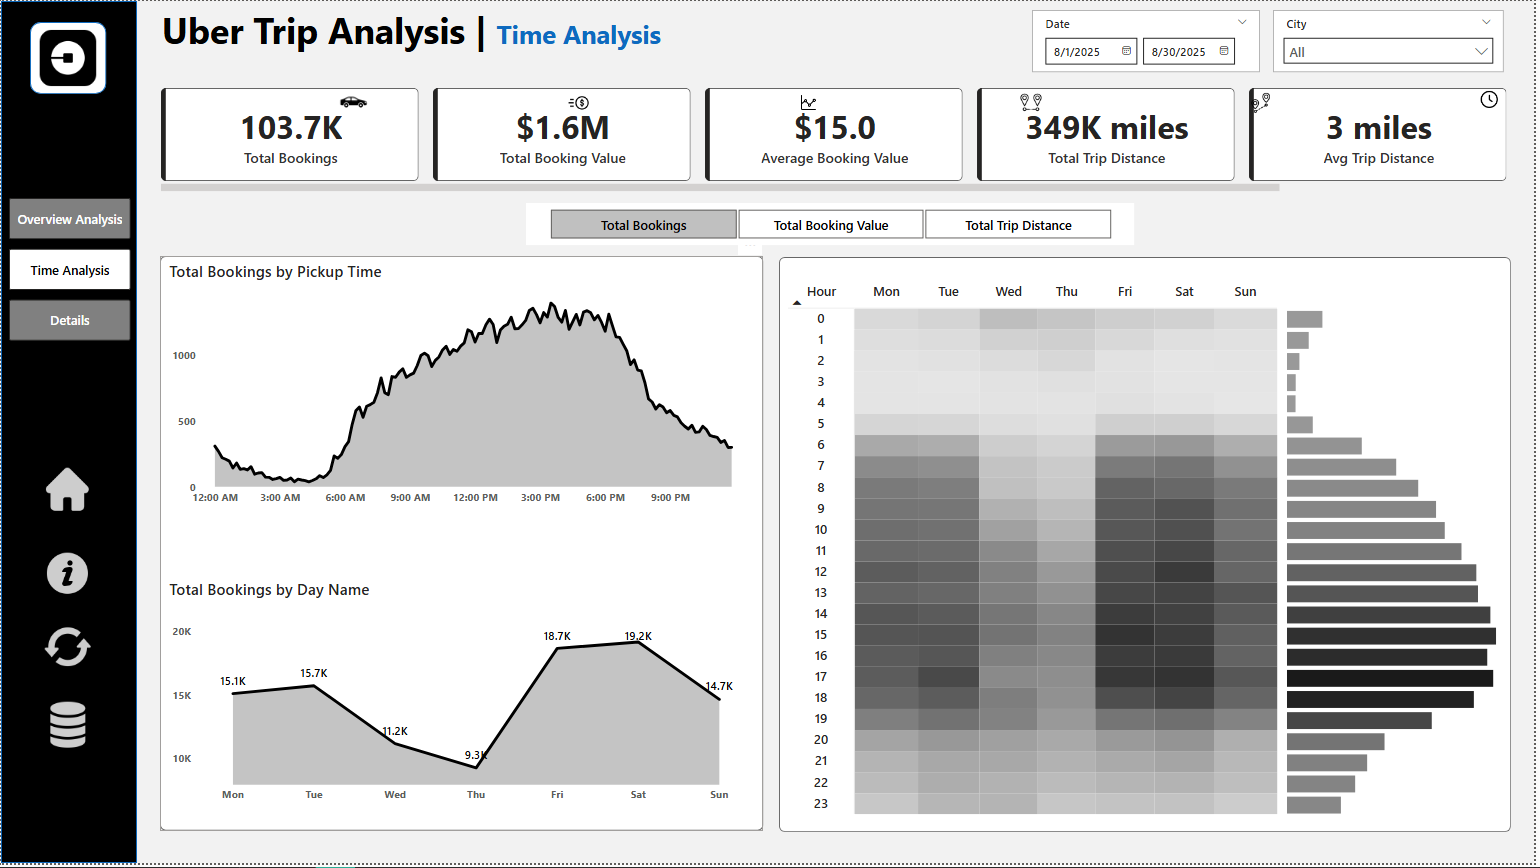

What the dashboard file says about the page in this screenshot:
{"tool":"powerbi","page":{"name":"Time Analysis","canvas":[1600,900],"ordinal":1},"visuals":[{"type":"shape","box":[0,0,142,900],"z":0},{"type":"shape","box":[29.8,22.3,79.7,75.2],"z":0,"group":"g1"},{"type":"textbox","box":[162.7,0,592.5,65.1],"z":1000},{"type":"image","box":[32.7,25.2,73.1,69.3],"z":1000,"group":"g1"},{"type":"cardVisual","fields":{"Data":["Trip Details.Total Bookings","Trip Details.Total Booking Value","Trip Details.Average Booking Amount","Trip Details.Total Trip Distance","Trip Details.Avg Trip Distance","Trip Details.Avg Trip Time"]},"box":[161.6,85.2,1415,120],"z":2000},{"type":"image","box":[582.9,91.1,41.1,31.1],"z":3000},{"type":"image","box":[1051.8,89.9,47.8,32.2],"z":4000},{"type":"image","box":[1289.6,91.1,53.3,31.1],"z":5000},{"type":"image","box":[1537,88.7,34.8,28.1],"z":6000},{"type":"image","box":[826.3,92.2,34.4,27.8],"z":7000},{"type":"shape","box":[165.6,266.7,630,600],"z":8000},{"type":"image","box":[346.4,84.2,42.6,41.5],"z":9000},{"type":"slicer","fields":{"Values":["Dynamic Measure.Dynamic Measure"]},"box":[548,210.4,635,44.1],"z":10000},{"type":"slicer","fields":{"Values":["Calendar Table.Date"]},"box":[1076.2,9,237.9,65.1],"z":11000},{"type":"slicer","fields":{"Values":["Location Table.City"]},"box":[1327.6,9,241.3,65.1],"z":12000},{"type":"areaChart","fields":{"Y":["Trip Details.Total Bookings"],"Category":["Trip Details.Pickup Hour (HH MM SS) (bins)"]},"box":[173.3,301.1,615.6,235.6],"z":13000},{"type":"cardVisual","fields":{"Data":["Trip Details.Title for by Pickup Time"]},"box":[159.2,249.3,298.5,57.4],"z":14000},{"type":"areaChart","fields":{"Y":["Trip Details.Total Bookings"],"Category":["Calendar Table.Day Name"]},"box":[173.6,644.1,615.6,202.1],"z":15000},{"type":"cardVisual","fields":{"Data":["Trip Details.Title for by Day Name"]},"box":[159.2,579.4,297.3,60.9],"z":16000},{"type":"shape","box":[812.5,267.1,764.2,600.4],"z":17000},{"type":"pivotTable","fields":{"Values":["Trip Details.Total Bookings"],"Rows":["Trip Details.Pickup Hour"],"Columns":["Calendar Table.Day Name"]},"box":[817,288.4,581.3,576.8],"z":18000},{"type":"barChart","fields":{"Y":["Trip Details.Total Bookings"],"Category":["Trip Details.Pickup Hour"]},"box":[1337.5,309.8,231,565.7],"z":19000},{"type":"pageNavigator","box":[7.9,205.4,127.9,149.3],"z":20000},{"type":"group","id":"g1","title":"Uber Logo","box":[29.8,22.3,79.7,75.2],"z":21000},{"type":"image","box":[41.5,480.3,55,58.4],"z":22000},{"type":"image","box":[39.3,645.3,60.6,58.4],"z":23000},{"type":"image","box":[42.6,567.8,52.7,58.4],"z":24000},{"type":"image","box":[40.4,724.9,58.4,61.7],"z":25000}]}

Visuals, with their boxes on the page's 1600x900 design canvas (x1, y1, x2, y2). These are canvas units, not pixel positions in the 1540x868 screenshot, which may show the page scaled, cropped or inside an application window:
shape: {"x1": 0, "y1": 0, "x2": 142, "y2": 900}
shape: {"x1": 30, "y1": 22, "x2": 110, "y2": 98}
textbox: {"x1": 163, "y1": 0, "x2": 755, "y2": 65}
image: {"x1": 33, "y1": 25, "x2": 106, "y2": 94}
cardVisual - Trip Details.Total Bookings x Trip Details.Total Booking Value: {"x1": 162, "y1": 85, "x2": 1577, "y2": 205}
image: {"x1": 583, "y1": 91, "x2": 624, "y2": 122}
image: {"x1": 1052, "y1": 90, "x2": 1100, "y2": 122}
image: {"x1": 1290, "y1": 91, "x2": 1343, "y2": 122}
image: {"x1": 1537, "y1": 89, "x2": 1572, "y2": 117}
image: {"x1": 826, "y1": 92, "x2": 861, "y2": 120}
shape: {"x1": 166, "y1": 267, "x2": 796, "y2": 867}
image: {"x1": 346, "y1": 84, "x2": 389, "y2": 126}
slicer - Dynamic Measure.Dynamic Measure: {"x1": 548, "y1": 210, "x2": 1183, "y2": 254}
slicer - Calendar Table.Date: {"x1": 1076, "y1": 9, "x2": 1314, "y2": 74}
slicer - Location Table.City: {"x1": 1328, "y1": 9, "x2": 1569, "y2": 74}
areaChart - Trip Details.Total Bookings x Trip Details.Pickup Hour (HH MM SS) (bins): {"x1": 173, "y1": 301, "x2": 789, "y2": 537}
cardVisual - Trip Details.Title for by Pickup Time: {"x1": 159, "y1": 249, "x2": 458, "y2": 307}
areaChart - Trip Details.Total Bookings x Calendar Table.Day Name: {"x1": 174, "y1": 644, "x2": 789, "y2": 846}
cardVisual - Trip Details.Title for by Day Name: {"x1": 159, "y1": 579, "x2": 456, "y2": 640}
shape: {"x1": 812, "y1": 267, "x2": 1577, "y2": 868}
pivotTable - Trip Details.Total Bookings x Trip Details.Pickup Hour: {"x1": 817, "y1": 288, "x2": 1398, "y2": 865}
barChart - Trip Details.Total Bookings x Trip Details.Pickup Hour: {"x1": 1338, "y1": 310, "x2": 1568, "y2": 876}
pageNavigator: {"x1": 8, "y1": 205, "x2": 136, "y2": 355}
"Uber Logo" group: {"x1": 30, "y1": 22, "x2": 110, "y2": 98}
image: {"x1": 42, "y1": 480, "x2": 96, "y2": 539}
image: {"x1": 39, "y1": 645, "x2": 100, "y2": 704}
image: {"x1": 43, "y1": 568, "x2": 95, "y2": 626}
image: {"x1": 40, "y1": 725, "x2": 99, "y2": 787}
